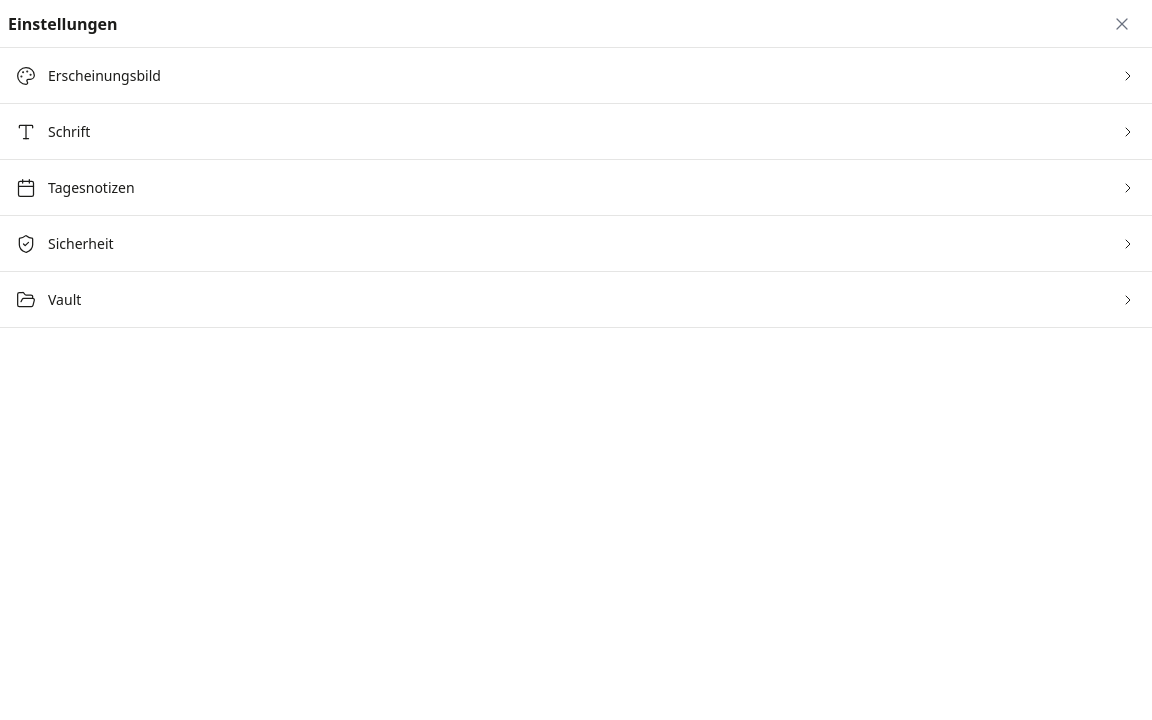
Scenario: MobileSettingsSheet (#394) › clicking the Erscheinungsbild row swaps the master view for the appearance detail view
Click the menu item "Erscheinungsbild" at (104, 76), box [0, 48, 1151, 104]
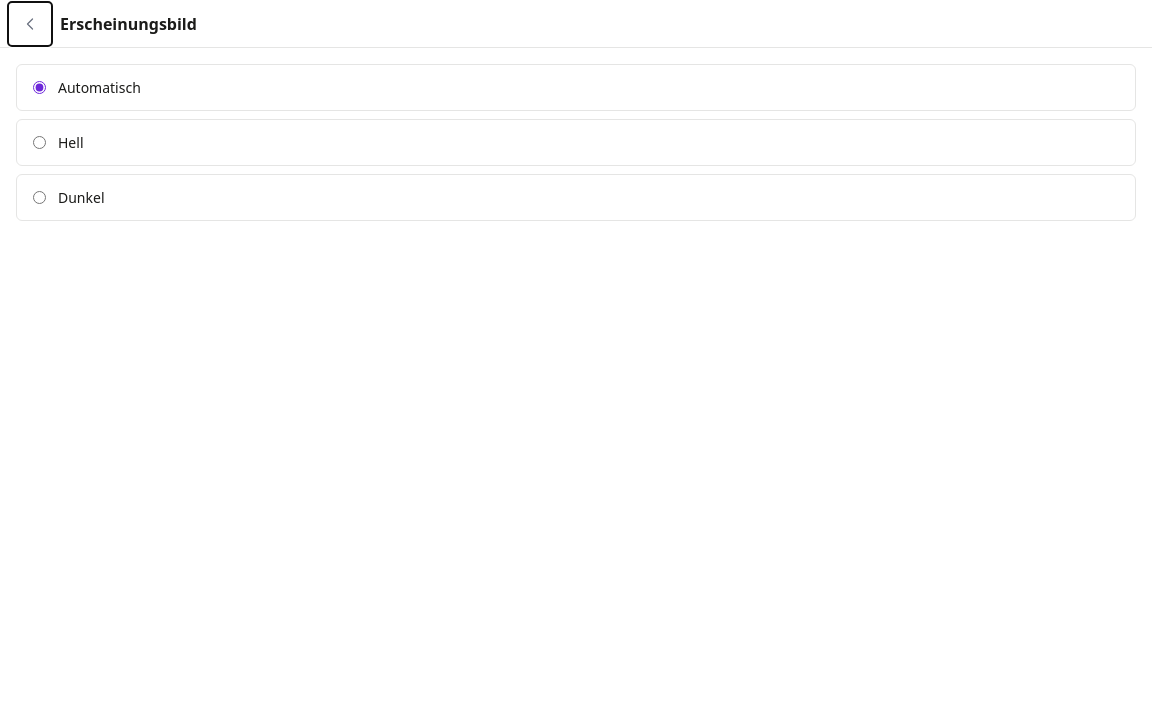
Check: the menu is gone
Check: the number of radio buttons named "theme" is 3, box [33, 81, 46, 94]; [33, 136, 46, 149]; [33, 191, 46, 204]
